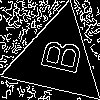B: (31, 33, 83, 77)
